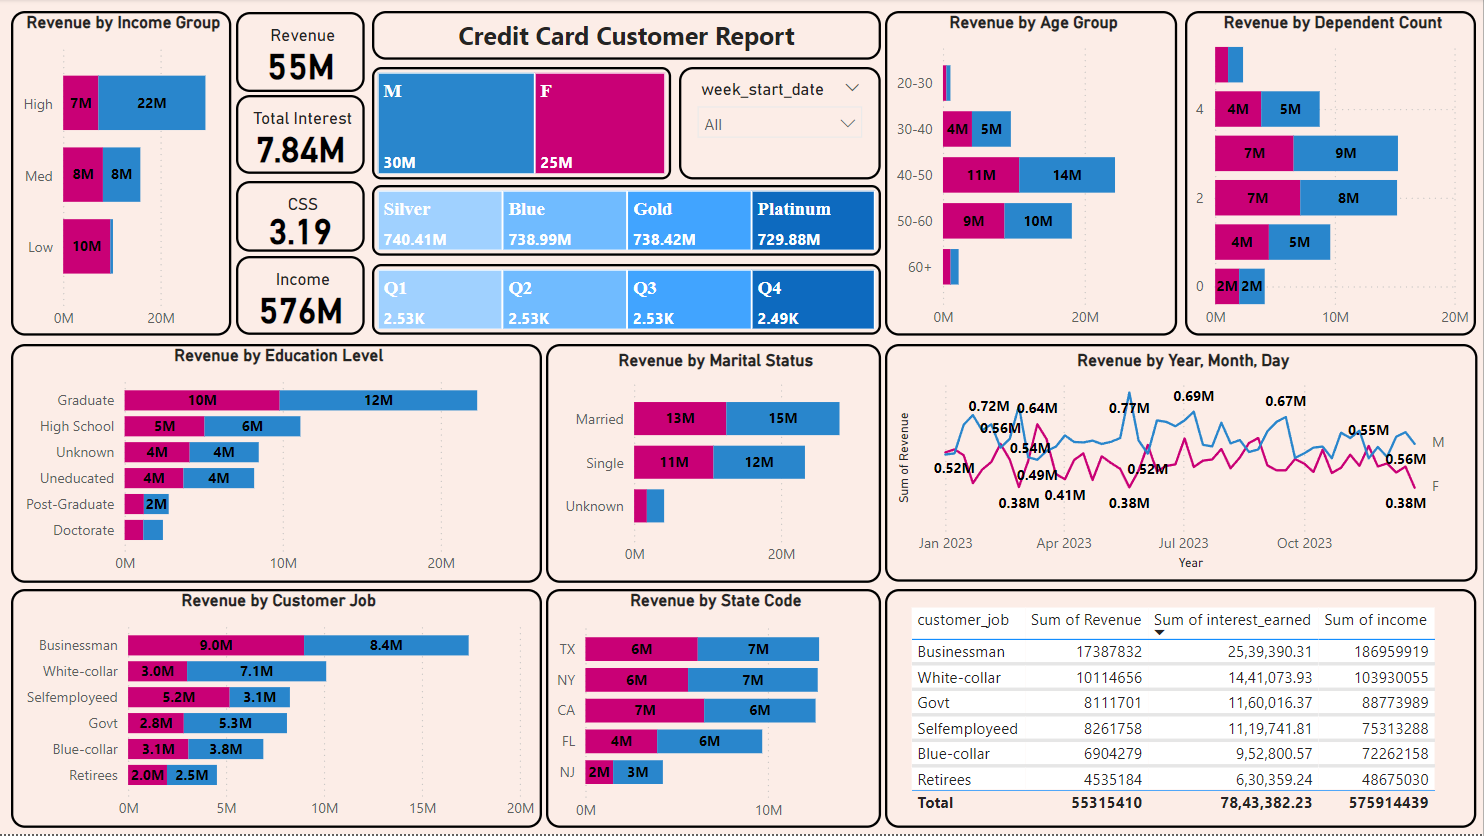

What the dashboard file says about the page in this screenshot:
{"tool":"powerbi","page":{"name":"Credit_Card_Customer_Report","canvas":[1280,720],"ordinal":1},"visuals":[{"type":"textbox","box":[322.1,10.1,438.6,42.2],"z":0},{"type":"slicer","fields":{"Values":["public customer_card_transactions.week_start_date"]},"box":[586.3,58.7,174.3,97.3],"z":1000},{"type":"treemap","fields":{"Group":["public customer_card_transactions.qtr"],"Values":["Count(public customer_card_transactions.Revenue)"]},"box":[322.1,228.5,438.6,61.5],"z":2000},{"type":"treemap","fields":{"Group":["public customer_profile.gender"],"Values":["Sum(public customer_card_transactions.Revenue)"]},"box":[322.1,58.7,257.8,97.3],"z":3000},{"type":"treemap","fields":{"Group":["public customer_card_transactions.card_category"],"Values":["Avg(public customer_card_transactions.client_num)"]},"box":[322.1,160.6,438.6,61.5],"z":4000},{"type":"card","title":"Revenue","fields":{"Values":["Sum(public customer_card_transactions.Revenue)"]},"box":[204.6,11,111,68.8],"z":5000},{"type":"card","title":"Total Interest","fields":{"Values":["Sum(public customer_card_transactions.interest_earned)"]},"box":[204.6,82.6,111,67.9],"z":6000},{"type":"card","title":"Income","fields":{"Values":["Sum(public customer_profile.income)"]},"box":[204.6,222.1,111,67.9],"z":7000},{"type":"card","title":"CSS","fields":{"Values":["Avg(public customer_profile.cust_satisfaction_score)"]},"box":[204.6,156.9,111,61.5],"z":8000},{"type":"lineChart","title":"Revenue by Year, Month, Day","fields":{"Y":["Sum(public customer_card_transactions.Revenue)"],"Category":["public customer_card_transactions.week_start_date.Variation.Date Hierarchy.Year","public customer_card_transactions.week_start_date.Variation.Date Hierarchy.Month","public customer_card_transactions.week_start_date.Variation.Date Hierarchy.Day"],"Series":["public customer_profile.gender"]},"box":[764.2,297.6,510.6,205.3],"z":9000},{"type":"barChart","title":"Revenue by Income Group","fields":{"Category":["public customer_profile.Income_Group"],"Y":["Sum(public customer_card_transactions.Revenue)"],"Series":["public customer_profile.gender"]},"box":[10.1,10.1,189.9,279.9],"z":10000},{"type":"barChart","title":"Revenue by Customer Job ","fields":{"Y":["Sum(public customer_card_transactions.Revenue)"],"Category":["public customer_profile.customer_job"],"Series":["public customer_profile.gender"]},"box":[10.1,509.2,457.9,205.5],"z":11000},{"type":"barChart","title":"Revenue by Age Group","fields":{"Y":["Sum(public customer_card_transactions.Revenue)"],"Category":["public customer_profile.Age_Group"],"Series":["public customer_profile.gender"]},"box":[764.3,10.1,252.3,279.9],"z":12000},{"type":"barChart","title":"Revenue by Education Level","fields":{"Y":["Sum(public customer_card_transactions.Revenue)"],"Category":["public customer_profile.education_level"],"Series":["public customer_profile.gender"]},"box":[10.1,297.3,457.9,205.5],"z":13000},{"type":"barChart","title":"Revenue by State Code","fields":{"Y":["Sum(public customer_card_transactions.Revenue)"],"Category":["public customer_profile.state_cd"],"Series":["public customer_profile.gender"]},"box":[471.6,509.2,289,205.5],"z":14000},{"type":"tableEx","fields":{"Values":["public customer_profile.customer_job","Sum(public customer_card_transactions.Revenue)","Sum(public customer_card_transactions.interest_earned)","Sum(public customer_profile.income)"]},"box":[764.3,509.2,510.2,205.5],"z":15000},{"type":"barChart","title":"Revenue by Dependent Count","fields":{"Y":["Sum(public customer_card_transactions.Revenue)"],"Category":["public customer_profile.dependent_count"],"Series":["public customer_profile.gender"]},"box":[1023.1,10.1,251.4,279.9],"z":16000},{"type":"barChart","title":"Revenue by Marital Status","fields":{"Y":["Sum(public customer_card_transactions.Revenue)"],"Category":["public customer_profile.marital_status"],"Series":["public customer_profile.gender"]},"box":[471.6,297.3,289,205.5],"z":17000}]}

Visuals, with their boxes in screenshot pixels (x1, y1, x2, y2), scaled from the page's 1280x720 canvas onto the 1484x836 screenshot:
textbox: x1=373 y1=12 x2=882 y2=61
slicer - public customer_card_transactions.week_start_date: x1=680 y1=68 x2=882 y2=181
treemap - public customer_card_transactions.qtr x Count(public customer_card_transactions.Revenue): x1=373 y1=265 x2=882 y2=337
treemap - public customer_profile.gender x Sum(public customer_card_transactions.Revenue): x1=373 y1=68 x2=672 y2=181
treemap - public customer_card_transactions.card_category x Avg(public customer_card_transactions.client_num): x1=373 y1=186 x2=882 y2=258
"Revenue" card: x1=237 y1=13 x2=366 y2=93
"Total Interest" card: x1=237 y1=96 x2=366 y2=175
"Income" card: x1=237 y1=258 x2=366 y2=337
"CSS" card: x1=237 y1=182 x2=366 y2=254
"Revenue by Year, Month, Day" lineChart: x1=886 y1=346 x2=1478 y2=584
"Revenue by Income Group" barChart: x1=12 y1=12 x2=232 y2=337
"Revenue by Customer Job " barChart: x1=12 y1=591 x2=543 y2=830
"Revenue by Age Group" barChart: x1=886 y1=12 x2=1179 y2=337
"Revenue by Education Level" barChart: x1=12 y1=345 x2=543 y2=584
"Revenue by State Code" barChart: x1=547 y1=591 x2=882 y2=830
tableEx - public customer_profile.customer_job x Sum(public customer_card_transactions.Revenue): x1=886 y1=591 x2=1478 y2=830
"Revenue by Dependent Count" barChart: x1=1186 y1=12 x2=1478 y2=337
"Revenue by Marital Status" barChart: x1=547 y1=345 x2=882 y2=584
